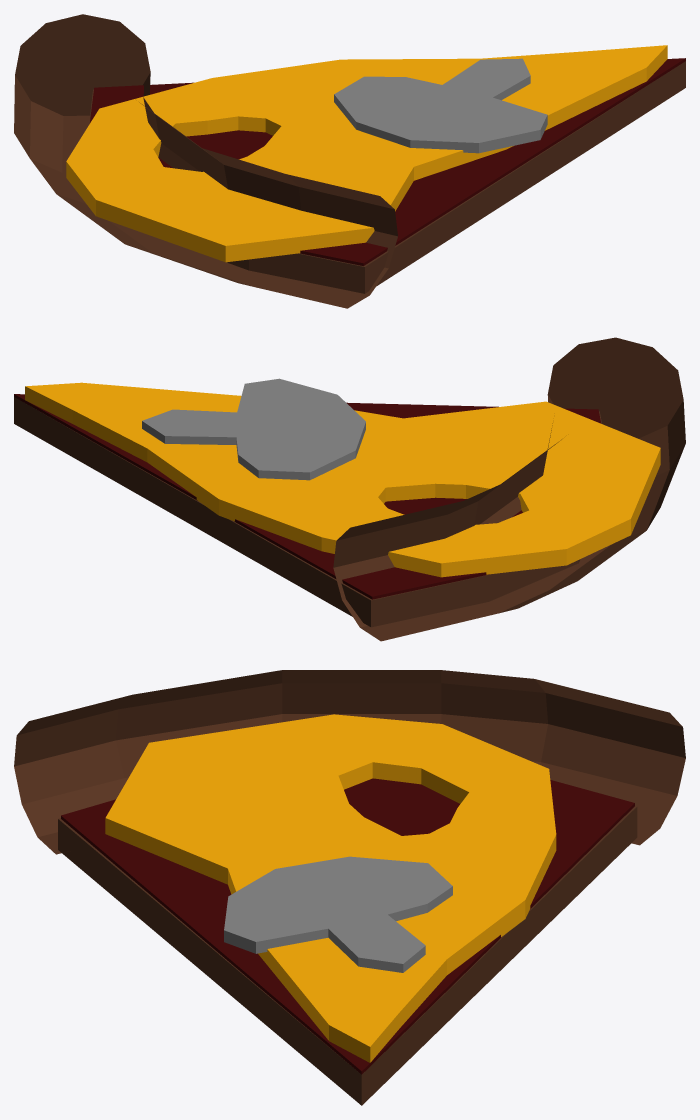
The model's file is pizzka.obj.
3 renders of one model, top to bottom at view 1: azimuth 30°, elevation 25°; view 2: azimuth 150°, elevation 25°; view 3: azimuth 270°, elevation 25°, orthographic. The views are drawn at different scales.
Visible parts, largest first — view 1: Cylinder.004; view 2: Cylinder.004; view 3: Cylinder.004.
Boxes of the visible parts, box(x1,y1,x2,y2) form: Cylinder.004: box(14, 14, 685, 308); Cylinder.004: box(14, 337, 685, 641); Cylinder.004: box(14, 670, 685, 1105).
Size of the model in its own units: 4.94 by 0.7856 by 4.06.
